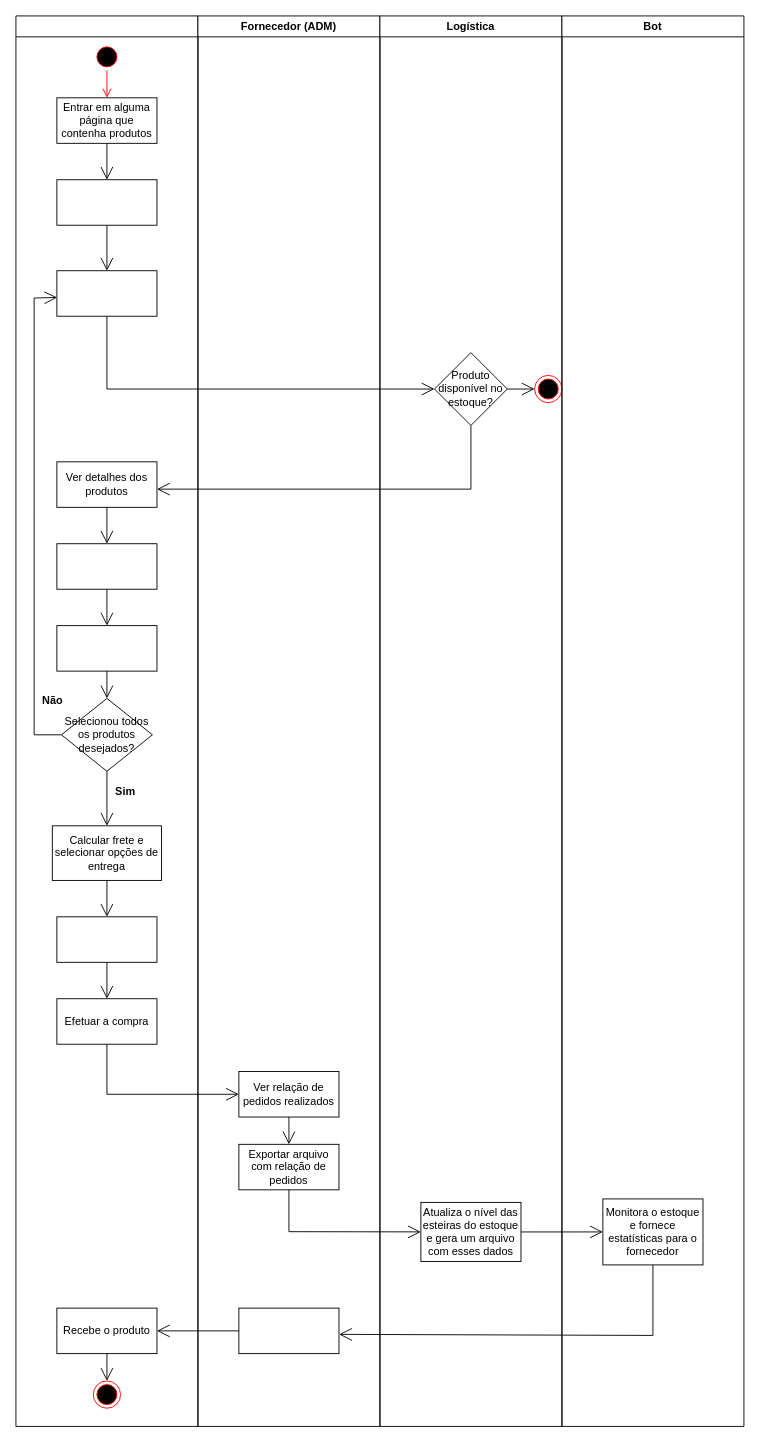
Some shapes in this 760 by 1442 pixel diagram are drawn without their labels. The box of each missing label's shape, as (x1, y1, x2, y2) in pixels:
Clicar no botão "ir para o pagamento": (56, 916, 157, 962)
Clicar no botão de "comprar": (56, 543, 157, 589)
Escolher um produto: (56, 270, 157, 316)
Mandar o produto para uma distribuidora: (238, 1307, 339, 1354)
Navegar pela página: (56, 179, 157, 225)
Usuário: (15, 15, 198, 1426)
Ver carrinho: (56, 625, 157, 671)
